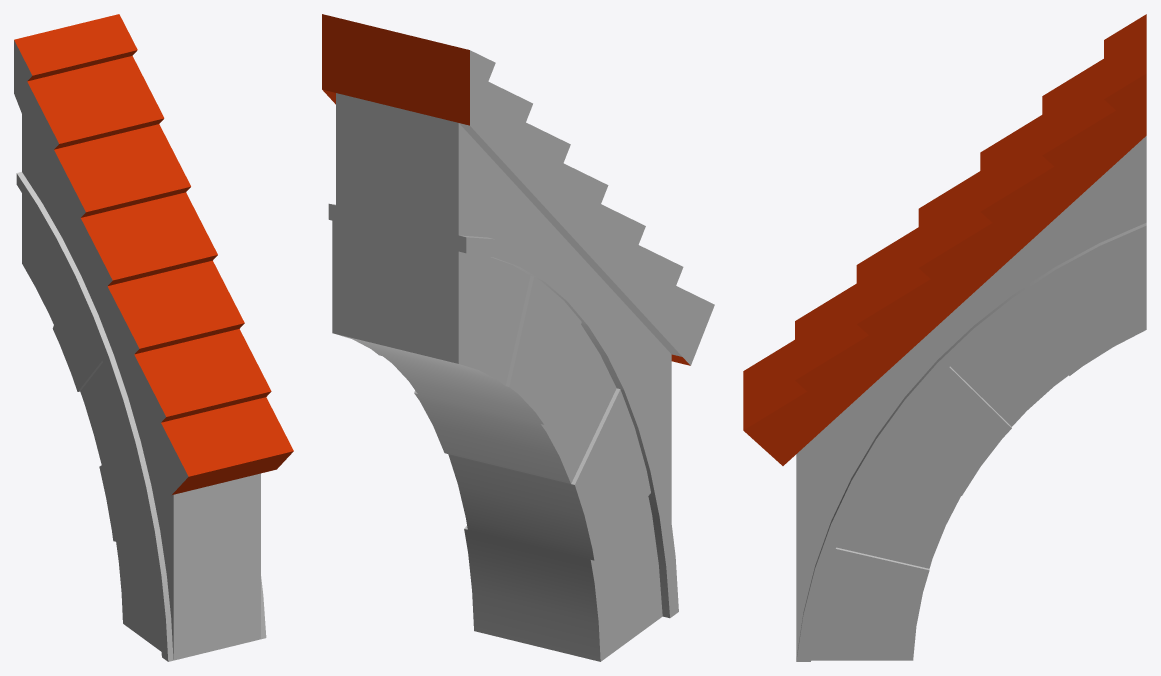
File: Building_Modular_Roof_Piece_06.fbx
3 views of the same model, side by side, from view 1: azimuth 30°, elevation 25°; view 2: azimuth 150°, elevation 25°; view 3: azimuth 270°, elevation 25° (orthographic). The views are drawn at different scales.
Visible parts, largest first — view 1: Model; view 2: Model; view 3: Model.
Boxes of the visible parts, box(x1,y1,x2,y2) form: Model: box(14, 14, 293, 661); Model: box(322, 14, 714, 661); Model: box(743, 14, 1146, 661).
Size of the model in its own units: 128 by 593 by 367.
